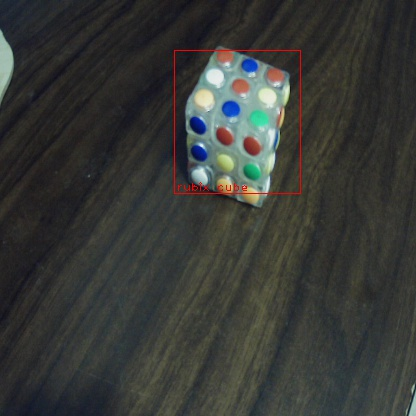Rubix Cube: (190, 52, 282, 192)
